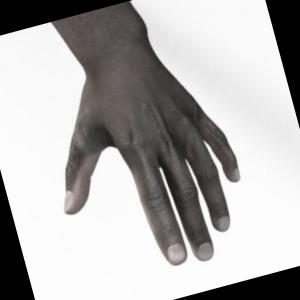paper: (51, 1, 239, 265)
